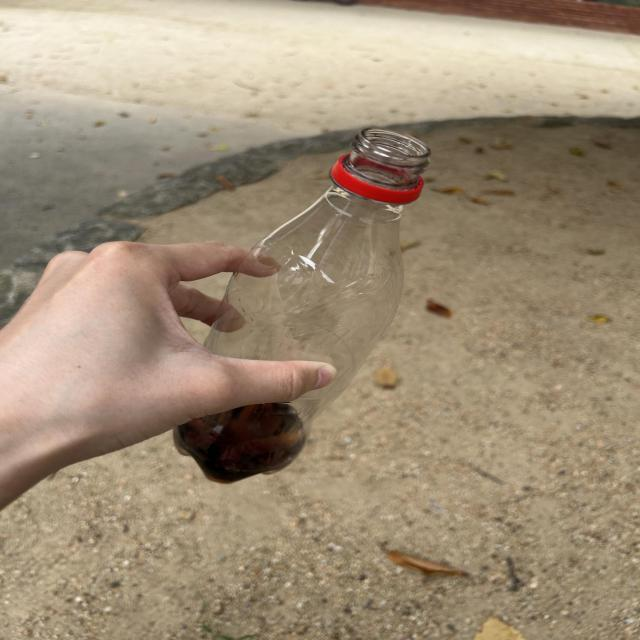low: (174, 128, 430, 483)
